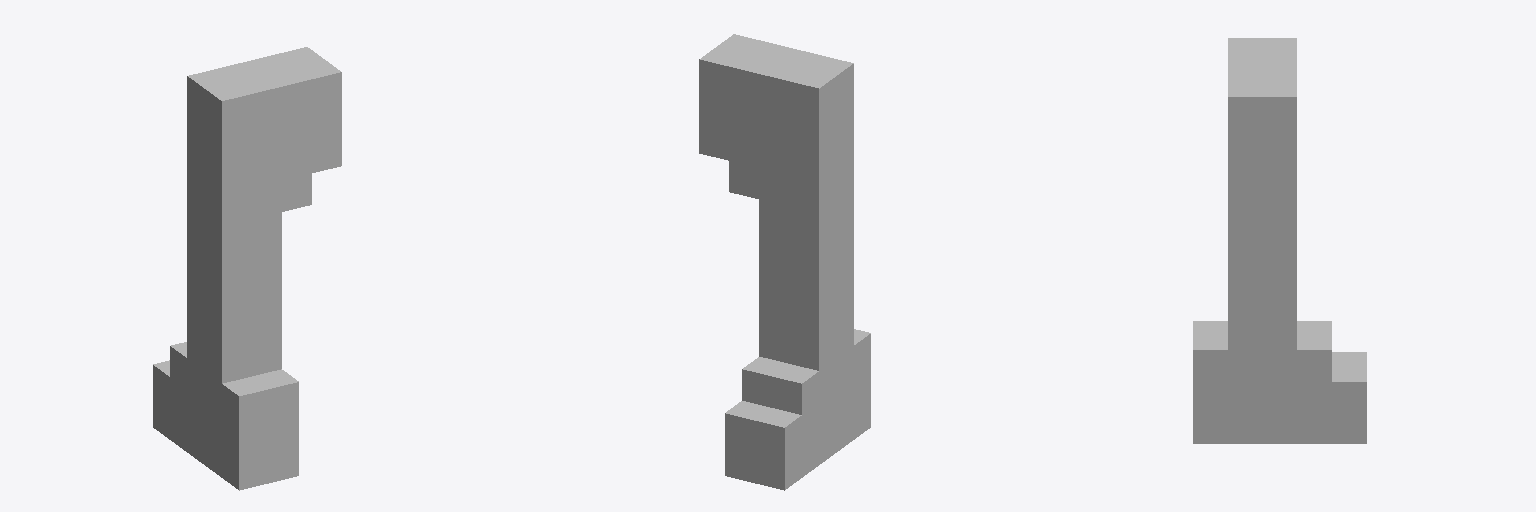
Rendered from l_leg.obj.
3 views of the same model, side by side, from view 1: azimuth 30°, elevation 25°; view 2: azimuth 150°, elevation 25°; view 3: azimuth 270°, elevation 25° (orthographic).
Parts seen in each view (by area): view 1: object 1; view 2: object 1; view 3: object 1.
Boxes of the visible parts, x1=… form: object 1: x1=153, y1=47, x2=341, y2=490; object 1: x1=699, y1=34, x2=870, y2=490; object 1: x1=1193, y1=38, x2=1366, y2=443.
Size of the model in its own units: 0.4 by 1.2 by 0.5.